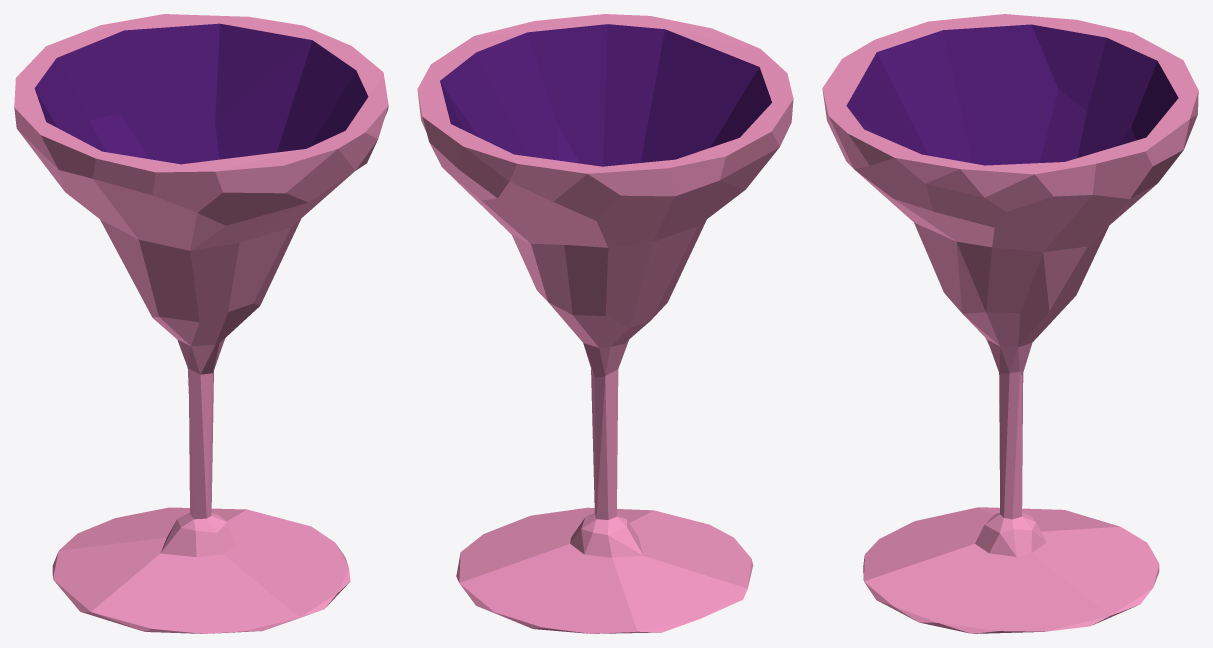
The model's file is DrinkingGlass03.fbx.
3 renders of one model, left to right at view 1: azimuth 30°, elevation 25°; view 2: azimuth 150°, elevation 25°; view 3: azimuth 270°, elevation 25°, orthographic.
Parts seen in each view (by area): view 1: DrinkingGlass03LowPoly; view 2: DrinkingGlass03LowPoly; view 3: DrinkingGlass03LowPoly.
Part boxes in pixels (x1,y1,x2,y2): DrinkingGlass03LowPoly: (14,14,388,633); DrinkingGlass03LowPoly: (417,14,793,633); DrinkingGlass03LowPoly: (822,14,1198,633).
Bounding box in the file's own units: 10.6 × 14.97 × 10.62.
